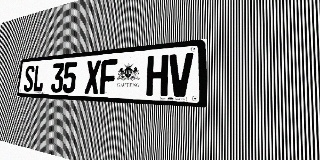3: (51, 63, 64, 93)
5: (62, 62, 77, 93)
F: (99, 58, 118, 95)
H: (146, 54, 169, 96)
L: (33, 64, 45, 92)
S: (23, 65, 35, 92)
V: (168, 53, 193, 97)
X: (84, 60, 101, 94)
